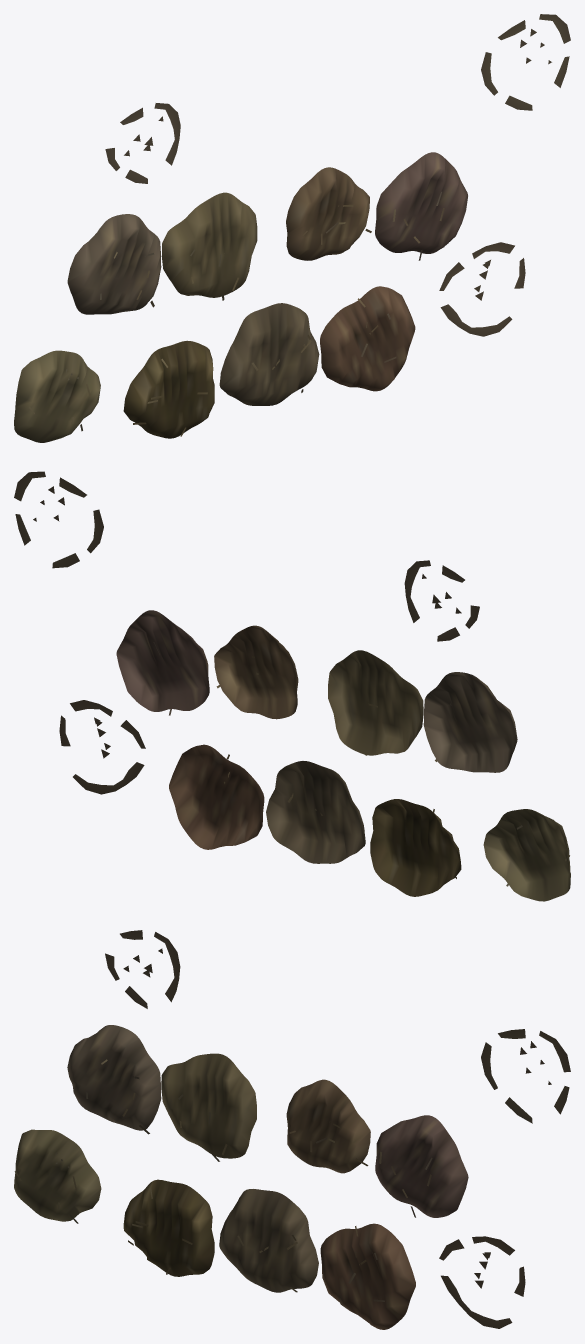
The model's file is gobar_wall_v2_b.glb.
3 views of the same model, one above another, from view 1: azimuth 30°, elevation 25°; view 2: azimuth 150°, elevation 25°; view 3: azimuth 330°, elevation 25° (orthographic).
Visible parts, largest first — view 1: hb_main; view 2: hb_main; view 3: hb_main.
Part boxes in pixels (x1=…): hb_main: x1=14, y1=14, x2=570, y2=442; hb_main: x1=14, y1=471, x2=570, y2=901; hb_main: x1=14, y1=930, x2=570, y2=1329.
Size of the model in its own units: 1.41 by 0.8299 by 0.0368.
